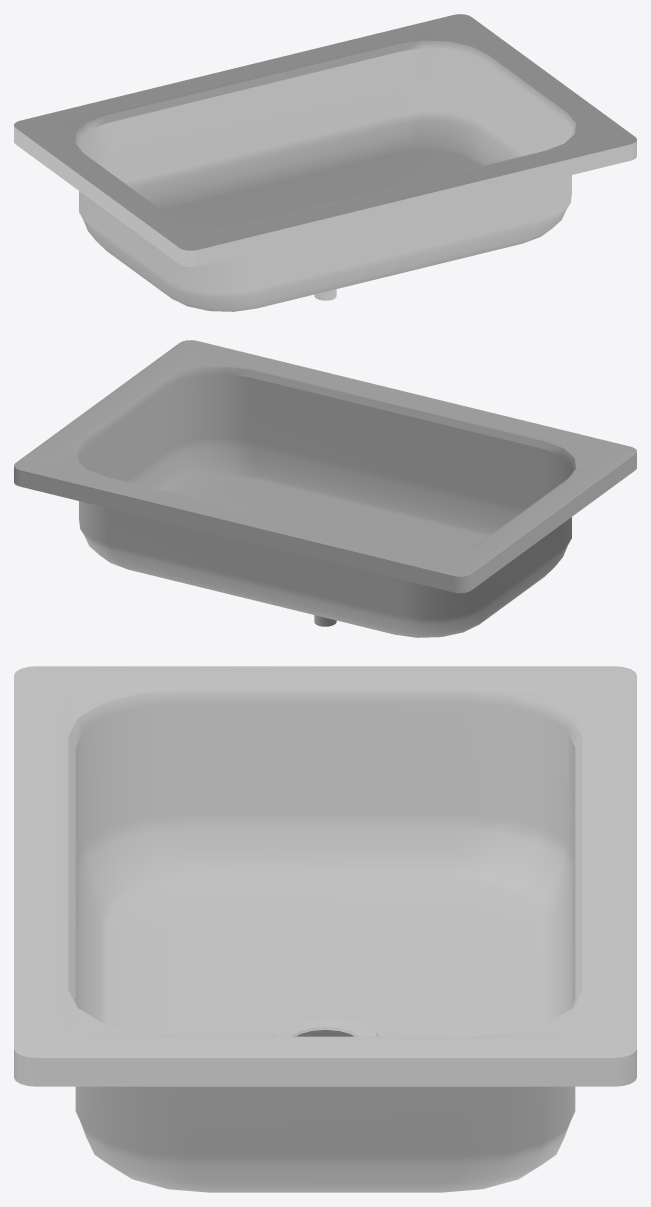
The model's file is Sink_a93ff9d5.obj.
3 renders of one model, top to bottom at view 1: azimuth 30°, elevation 25°; view 2: azimuth 150°, elevation 25°; view 3: azimuth 270°, elevation 25°, orthographic. The views are drawn at different scales.
Parts seen in each view (by area): view 1: Mesh_a5862092; view 2: Mesh_a5862092; view 3: Mesh_a5862092.
Boxes of the visible parts, <box> form: Mesh_a5862092: <box>14,14,636,311</box>; Mesh_a5862092: <box>14,340,636,637</box>; Mesh_a5862092: <box>14,666,636,1192</box>.
Bounding box in the file's own units: 0.7229 × 0.2486 × 0.486.
